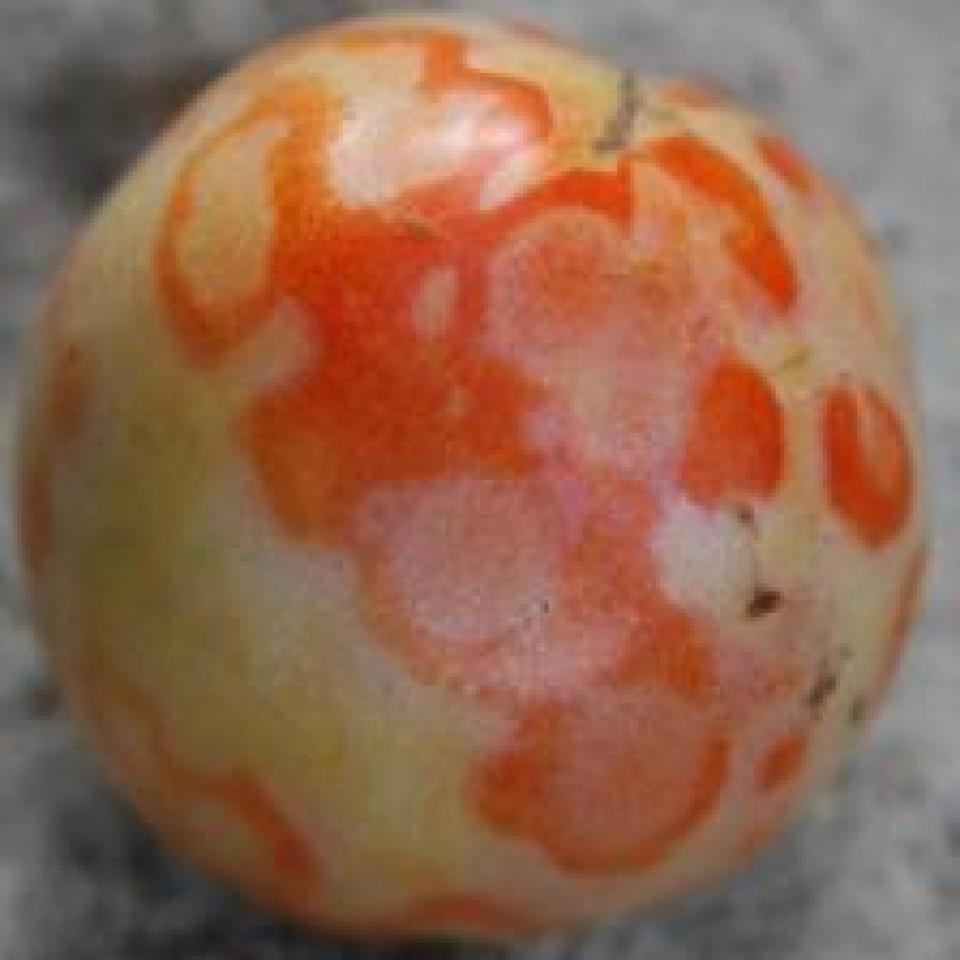Spotted wilt Virus: (21, 7, 923, 939)
